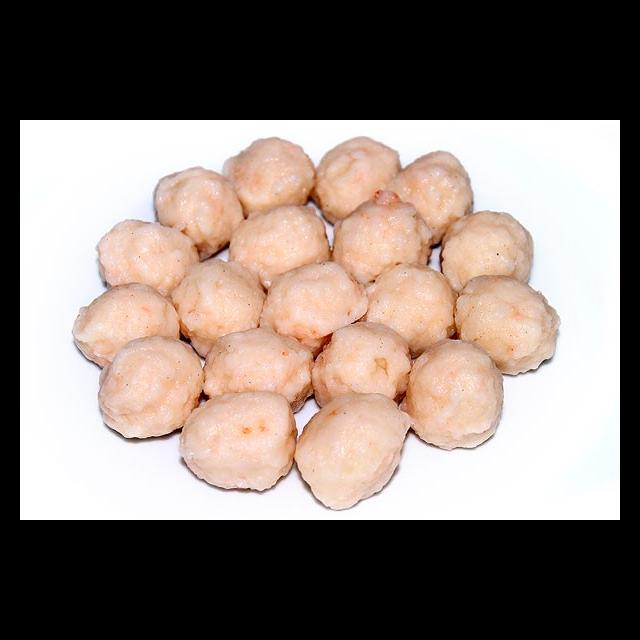food_waste: (102, 233, 523, 441)
